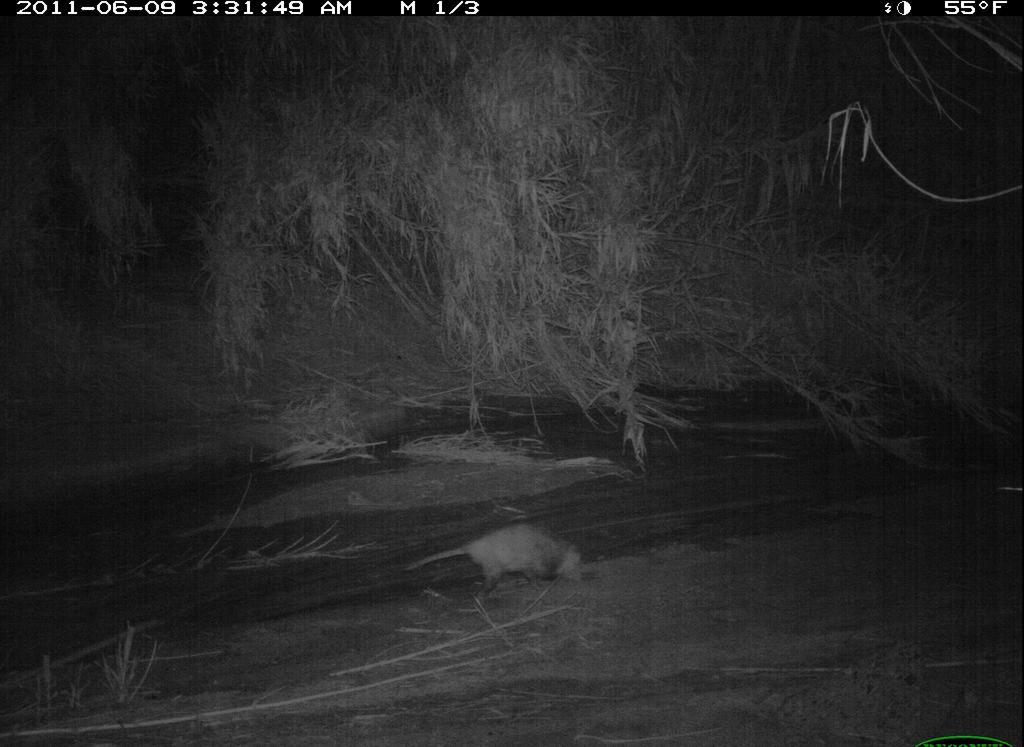opossum: (383, 507, 612, 619)
